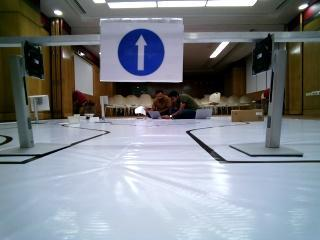straight: (100, 22, 181, 79)
